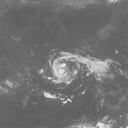cyclone: (47, 52, 76, 85)
